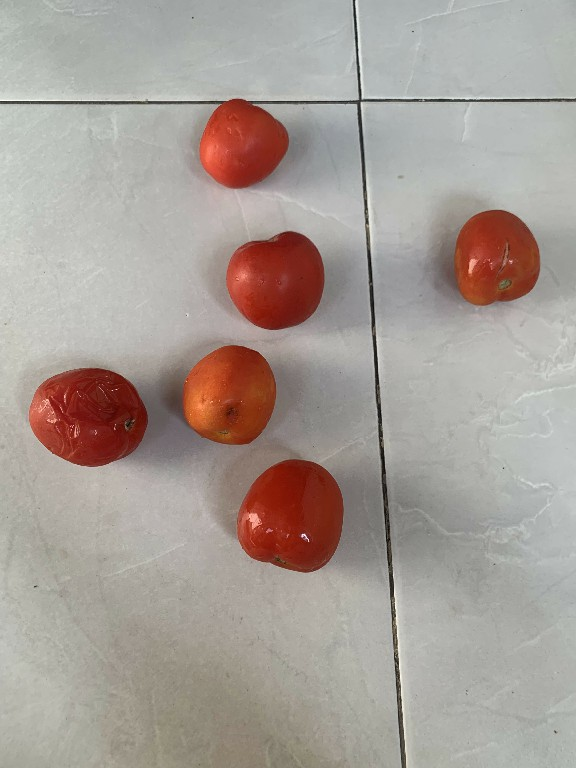NG: (25, 367, 147, 470), (178, 341, 278, 447), (454, 202, 540, 312)
OK: (237, 454, 347, 578), (218, 221, 329, 333), (197, 94, 289, 190)
